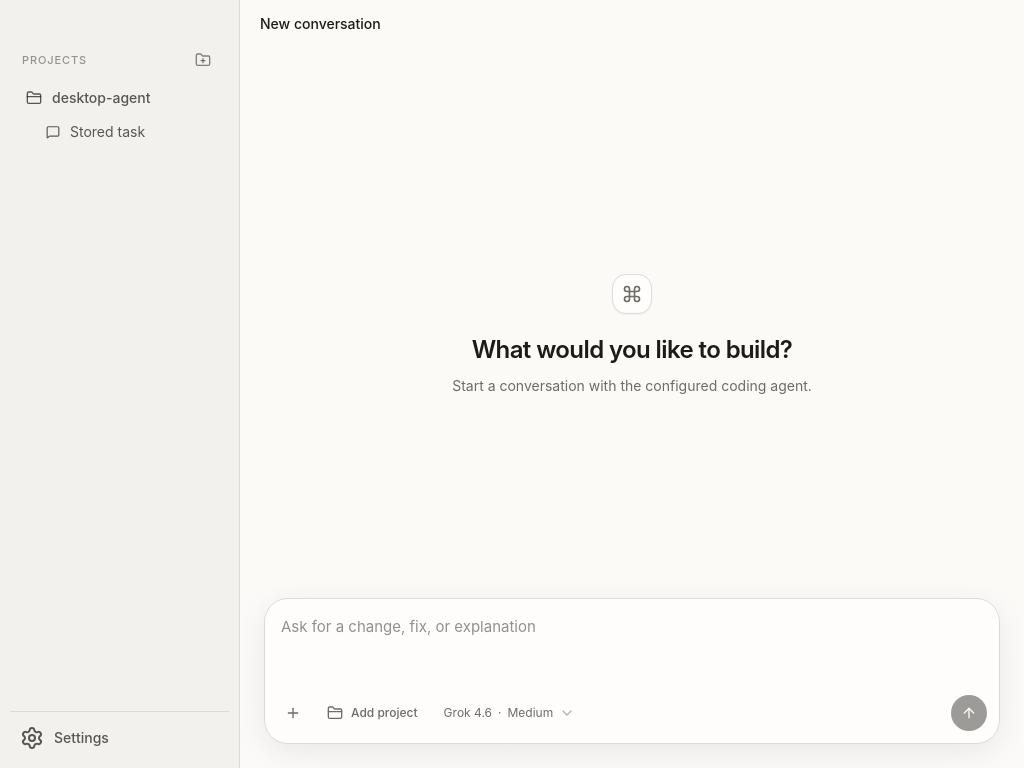
Test: App › changes access mode for an idle existing conversation
Click the button "Stored task": coordinates (130, 132) [36,116,223,148]
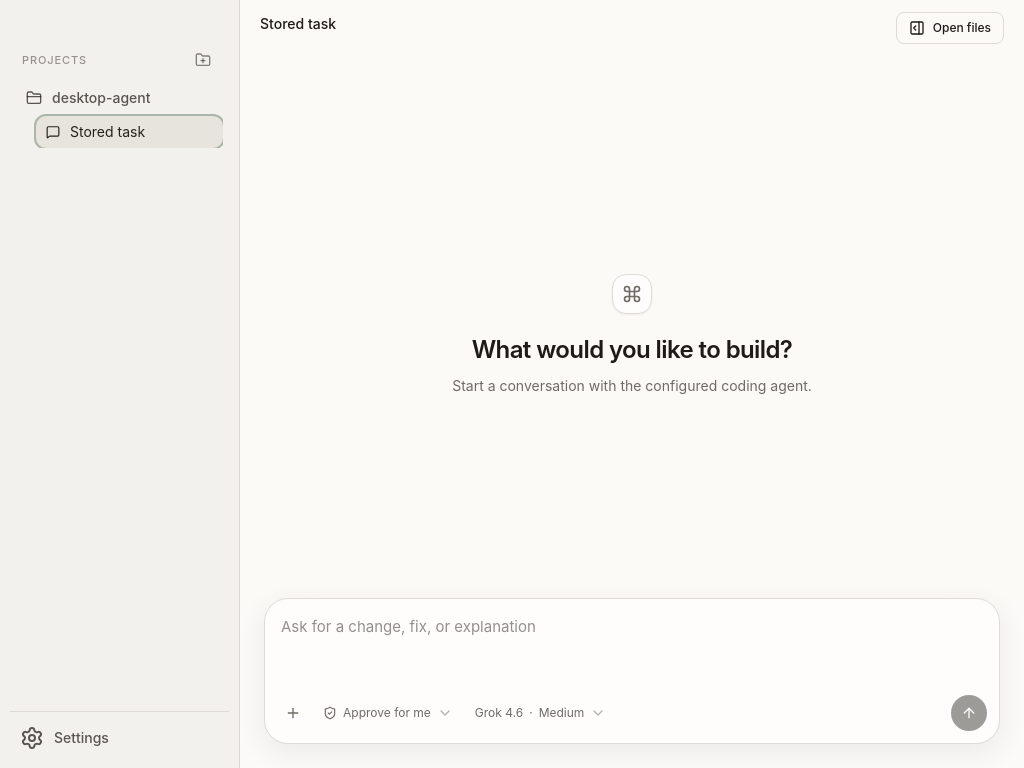
Click the dropdown named "Access mode": coordinates (388, 713) [315,697,461,729]
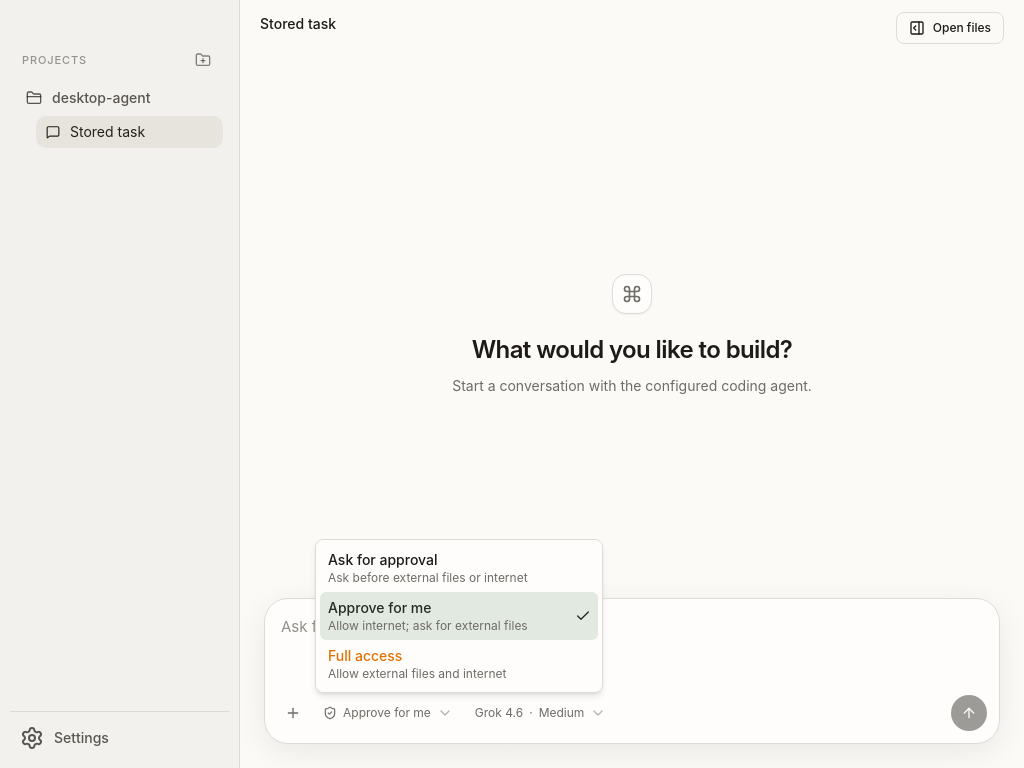
Click the option "Ask for approval Ask before external files or internet": coordinates (428, 568) [328,551,528,585]
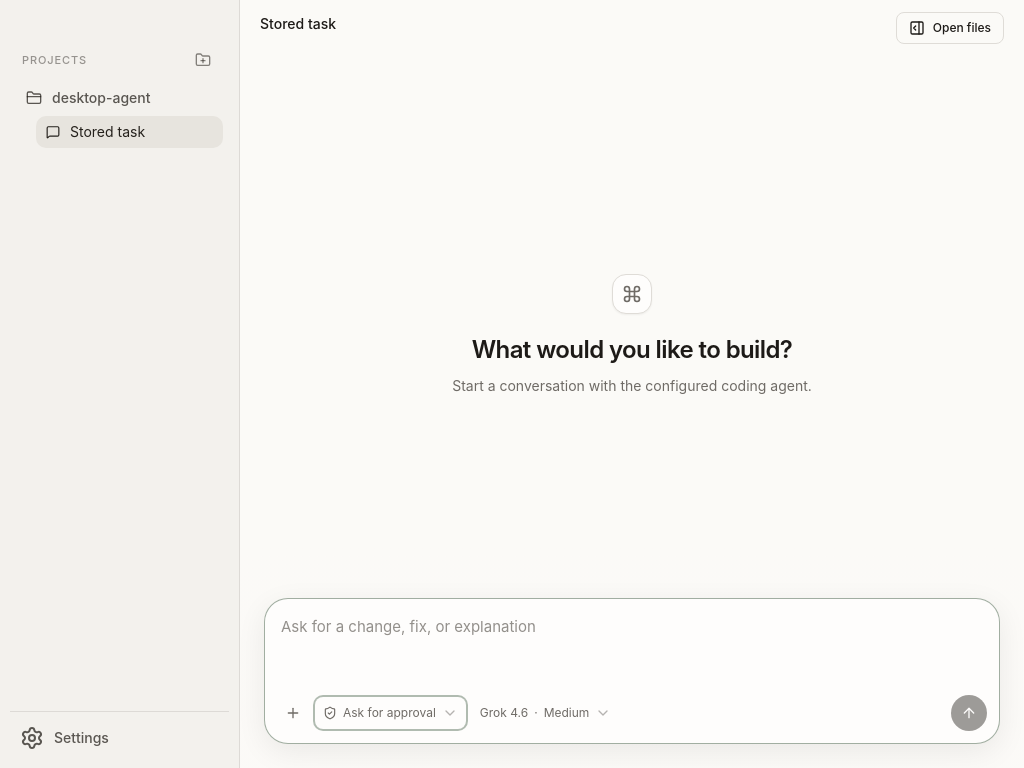
Now the dropdown named "Access mode" reads "Ask for approval", box [315,697,466,729]
